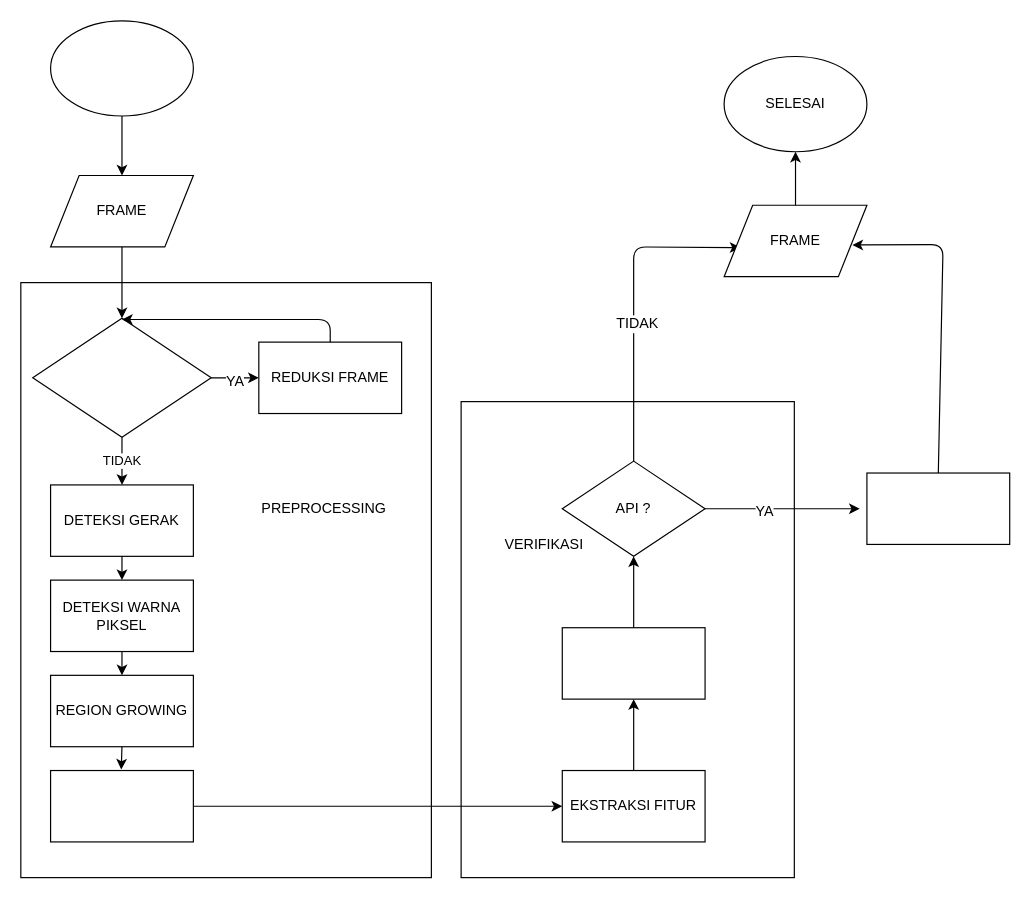
Image size: 1031x898. Some labels were removed from this diagram. Each missing label, with the centre of its shape:
"MENANDAI REGION" belongs at pixel 938 508.
"MULAI" belongs at pixel 121 68.
"PANJANG KOLOM FRAME > 150" belongs at pixel 121 377.
"PERHITUNGAN LUASAN REGION API" belongs at pixel 121 805.
"SUPPORT VECTOR MACHINES" belongs at pixel 633 663.
